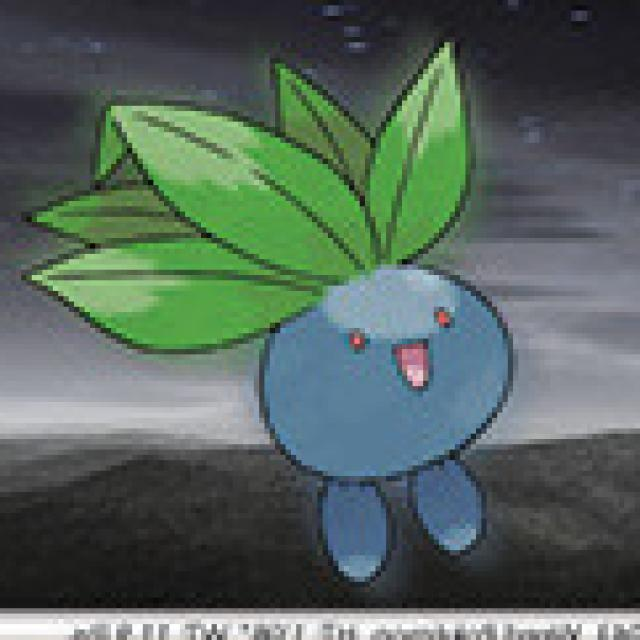Oddish: (205, 44, 517, 588)
